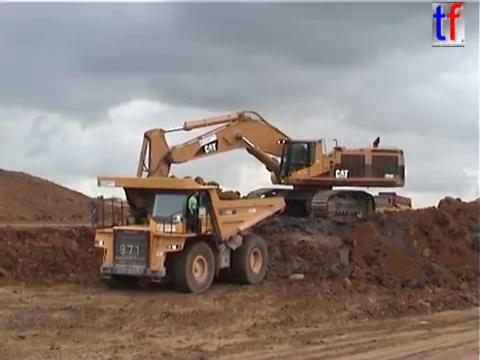excavator: (127, 108, 408, 234)
truck: (89, 174, 288, 295), (369, 190, 413, 217)
worker: (185, 187, 203, 232)
